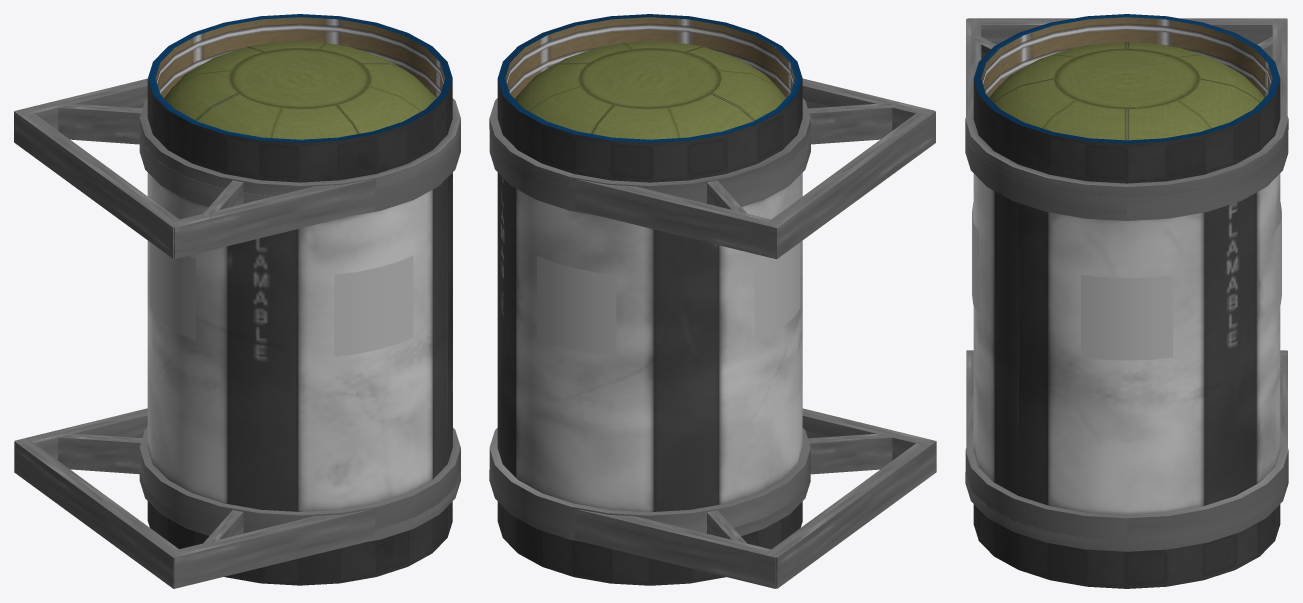
File: FLM-900M.FBX
3 views of the same model, side by side, from view 1: azimuth 30°, elevation 25°; view 2: azimuth 150°, elevation 25°; view 3: azimuth 270°, elevation 25° (orthographic).
Visible parts, largest first — view 1: Cylinder002, TankSleeve001, EndCap001, TankSleeve002, Box007, Box006, Box011, Box003, MountingBracketBand002, decalPanel001, BarrelBand003, MountingBracketBand001 (+8 smaller); view 2: Cylinder002, TankSleeve001, EndCap001, TankSleeve002, Box001, Box010, Box011, Box003, MountingBracketBand002, decalPanel003, BarrelBand003, MountingBracketBand001 (+8 smaller); view 3: Cylinder002, TankSleeve001, EndCap001, TankSleeve002, MountingBracketBand002, decalPanel002, MountingBracketBand001, BarrelBand003, BarrelBand002, Box003, Box001, Box006 (+4 smaller).
Part boxes in pixels (x1,y1,x2,y2): Cylinder002: (147,172,452,511); TankSleeve001: (147,14,452,182); EndCap001: (160,41,439,182); TankSleeve002: (147,501,452,585); Box007: (172,509,374,588); Box006: (168,179,375,258); Box011: (14,438,180,588); Box003: (14,111,178,258); MountingBracketBand002: (139,427,460,533); decalPanel001: (334,255,413,356); BarrelBand003: (139,98,460,195); MountingBracketBand001: (139,130,460,215); Cylinder002: (497,172,802,511); TankSleeve001: (497,14,802,182); EndCap001: (503,41,796,182); TankSleeve002: (497,501,802,585); Box001: (575,179,782,258); Box010: (575,509,775,588); Box011: (764,441,936,588); Box003: (764,111,935,258); MountingBracketBand002: (489,428,810,533); decalPanel003: (537,255,616,356); BarrelBand003: (489,98,810,195); MountingBracketBand001: (489,129,810,215); Cylinder002: (973,173,1280,514); TankSleeve001: (973,14,1280,183); EndCap001: (979,42,1274,183); TankSleeve002: (973,504,1280,588); MountingBracketBand002: (965,430,1288,540); decalPanel002: (1081,275,1172,360); MountingBracketBand001: (965,130,1288,220); BarrelBand003: (965,98,1288,197); BarrelBand002: (965,472,1288,551); Box003: (967,18,1287,44); Box001: (1272,19,1287,114); Box006: (966,19,981,115).
Size of what is drawn, in the model's own units: 1.63 by 1.32 by 2.
